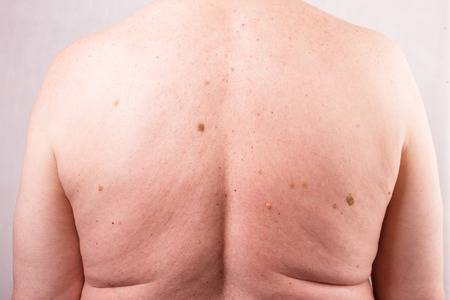mole: (343, 190, 359, 211), (193, 120, 207, 134), (110, 97, 124, 111), (285, 179, 298, 193), (95, 182, 105, 194)
